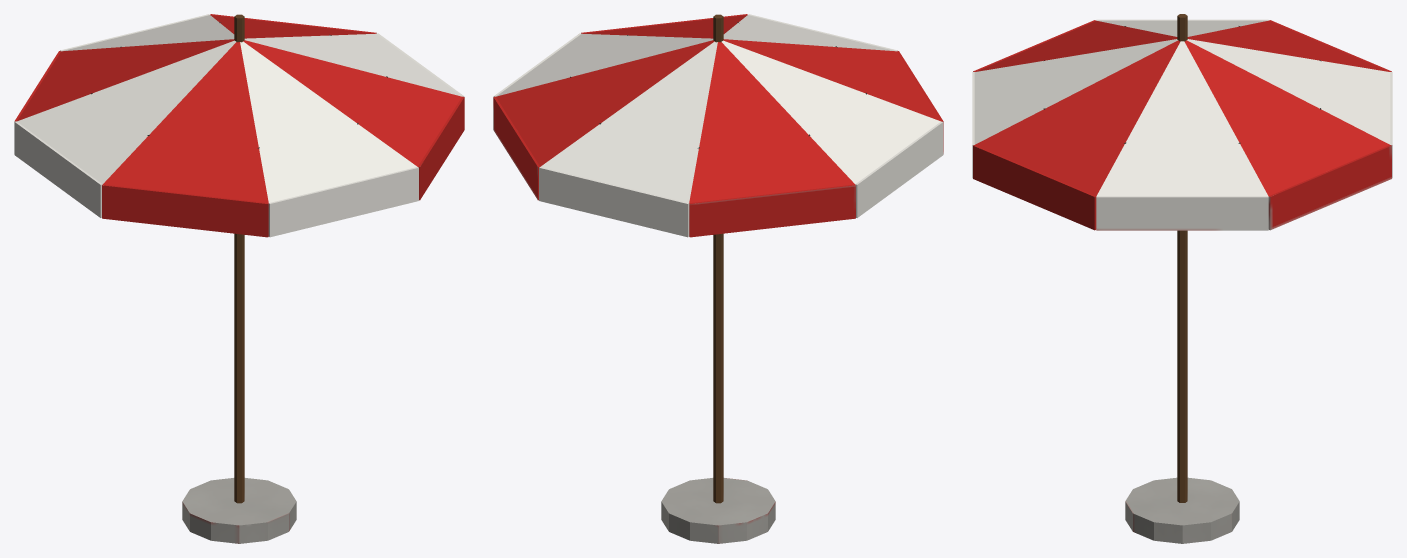
File: slunecnik_e50a5a74.glb
The picture shows the model from 3 angles, left to right: view 1: azimuth 30°, elevation 25°; view 2: azimuth 150°, elevation 25°; view 3: azimuth 270°, elevation 25°; orthographic projection.
Visible parts, largest first — view 1: dum; view 2: dum; view 3: dum.
Boxes of the visible parts, x1,y1,x2,y2 form: dum: (14, 14, 464, 543); dum: (493, 14, 943, 543); dum: (972, 14, 1392, 543).
Bounding box in the file's own units: 2.05 × 2.71 × 2.05.
Materials: 1 (1 with a texture image).
